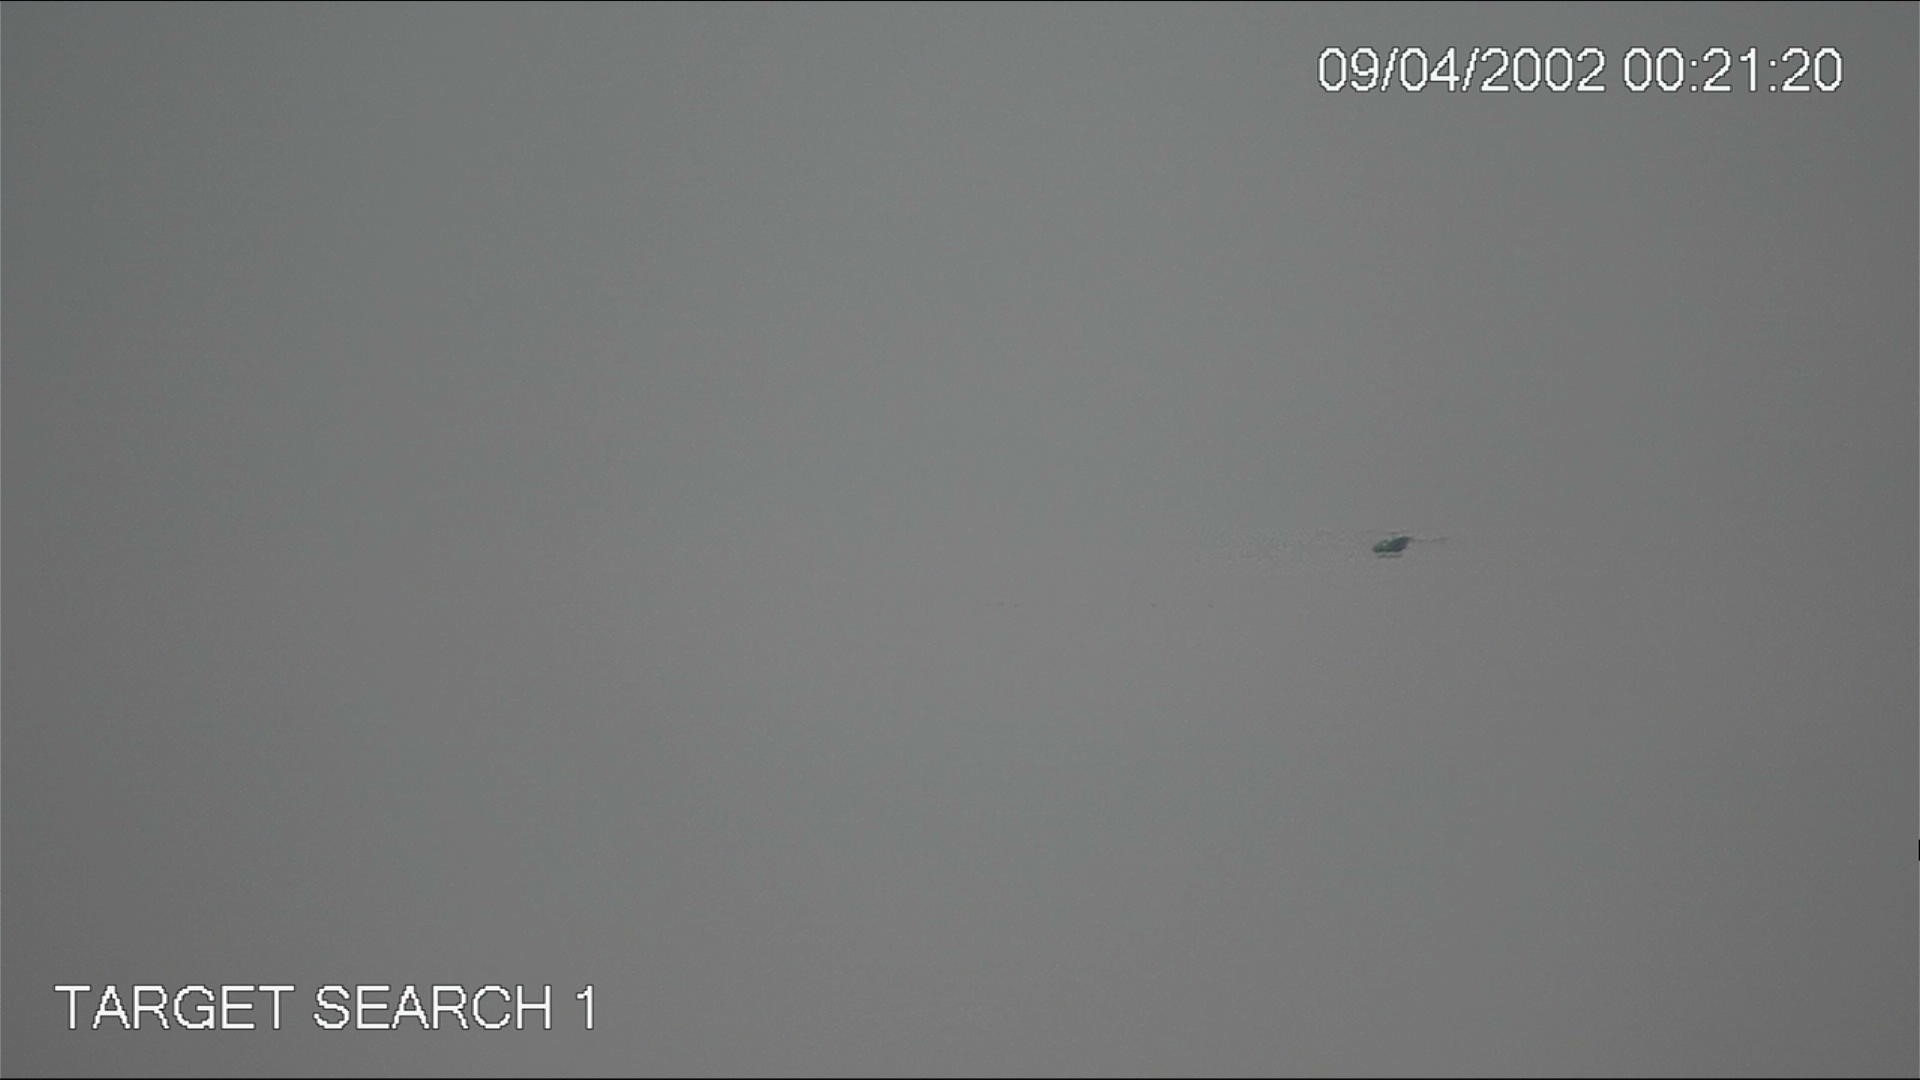SU_30: (1360, 530, 1419, 559)
